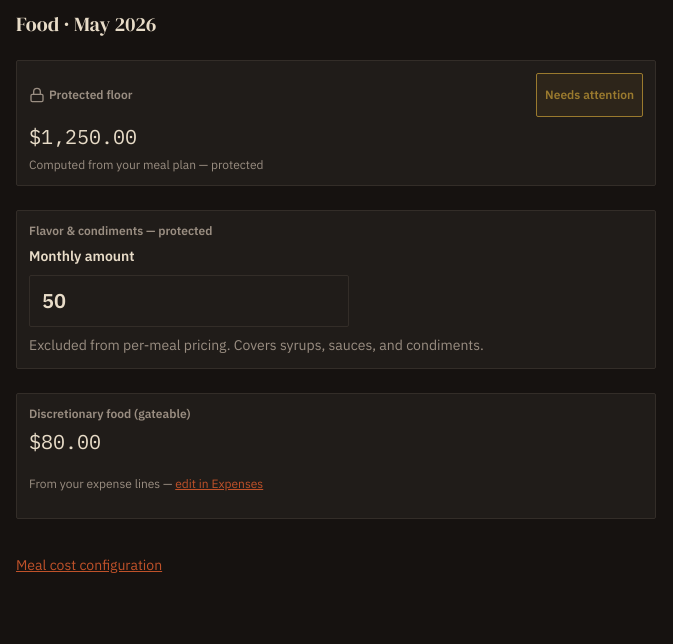
FoodPage › EDGE-03/D-11: expanding badge lists unpriced ingredient gap
Click the button with test id "food-status-badge". click: [590, 95]
box: x1=536 y1=73 x2=643 y2=117
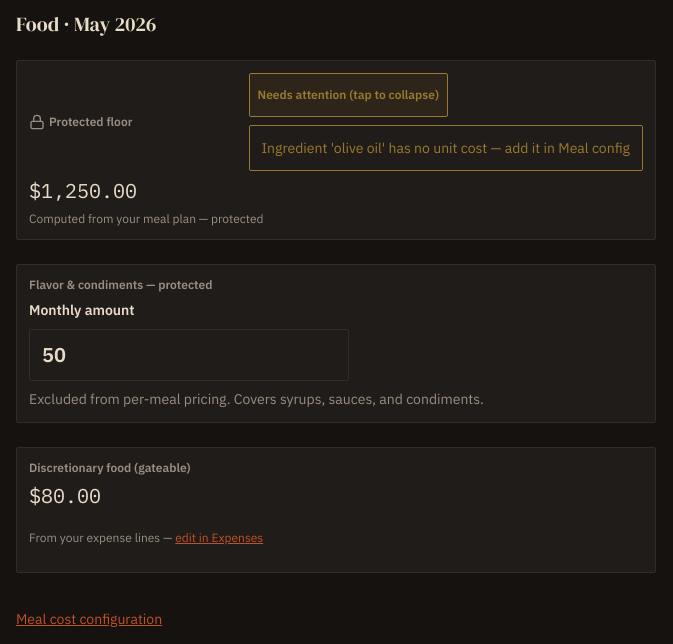
Check: the list item "olive oil" is shown, box x1=262 y1=139 x2=630 y2=157
